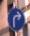turn: (6, 6, 25, 31)
